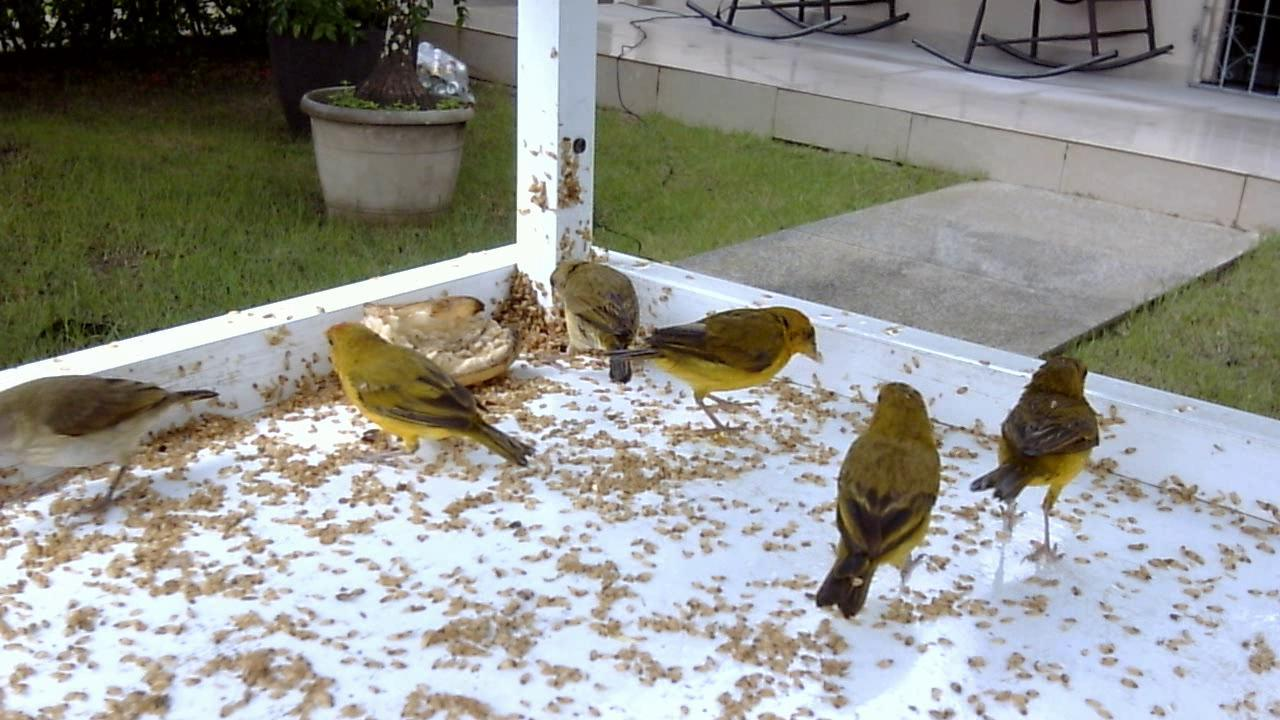canario_do_amazonas: (961, 337, 1130, 587), (318, 318, 542, 474), (6, 365, 231, 519), (616, 286, 826, 449), (807, 381, 948, 622), (546, 248, 652, 385)
